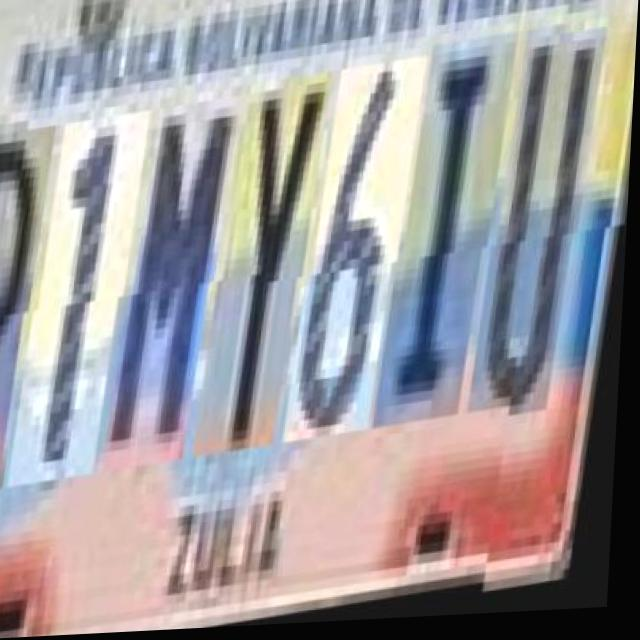1: (29, 116, 155, 489)
6: (302, 72, 431, 455)
i: (392, 50, 522, 444)
m: (122, 105, 245, 478)
p: (0, 127, 61, 498)
u: (486, 40, 612, 431)
y: (213, 84, 336, 466)
